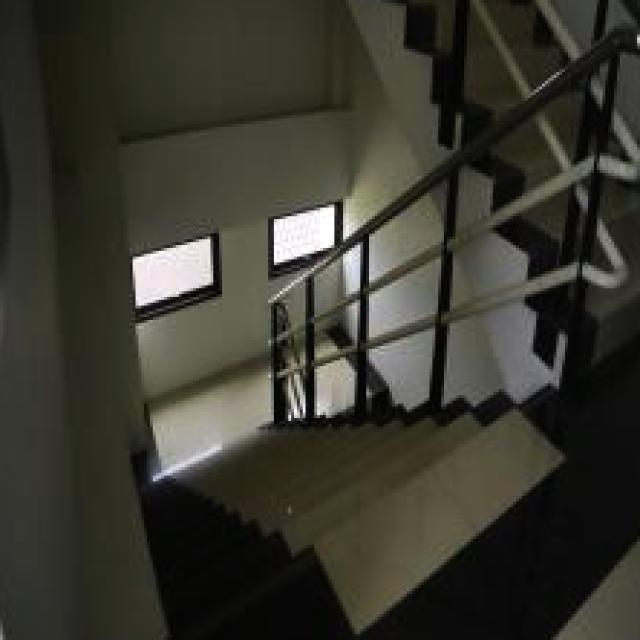downstair: (145, 416, 615, 632)
